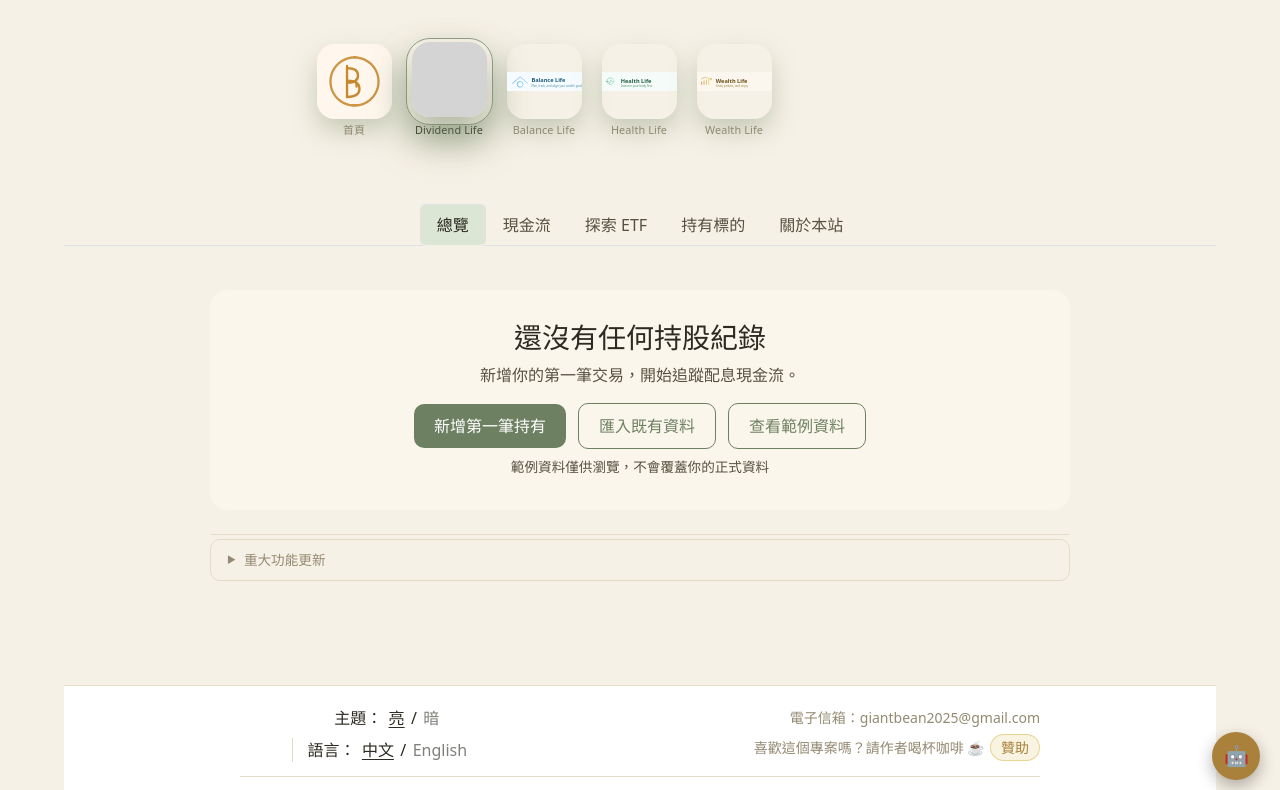
checking one stock in the search dropdown filters out the other
Click the tab "探索 ETF": click(616, 225) [568, 204, 664, 246]
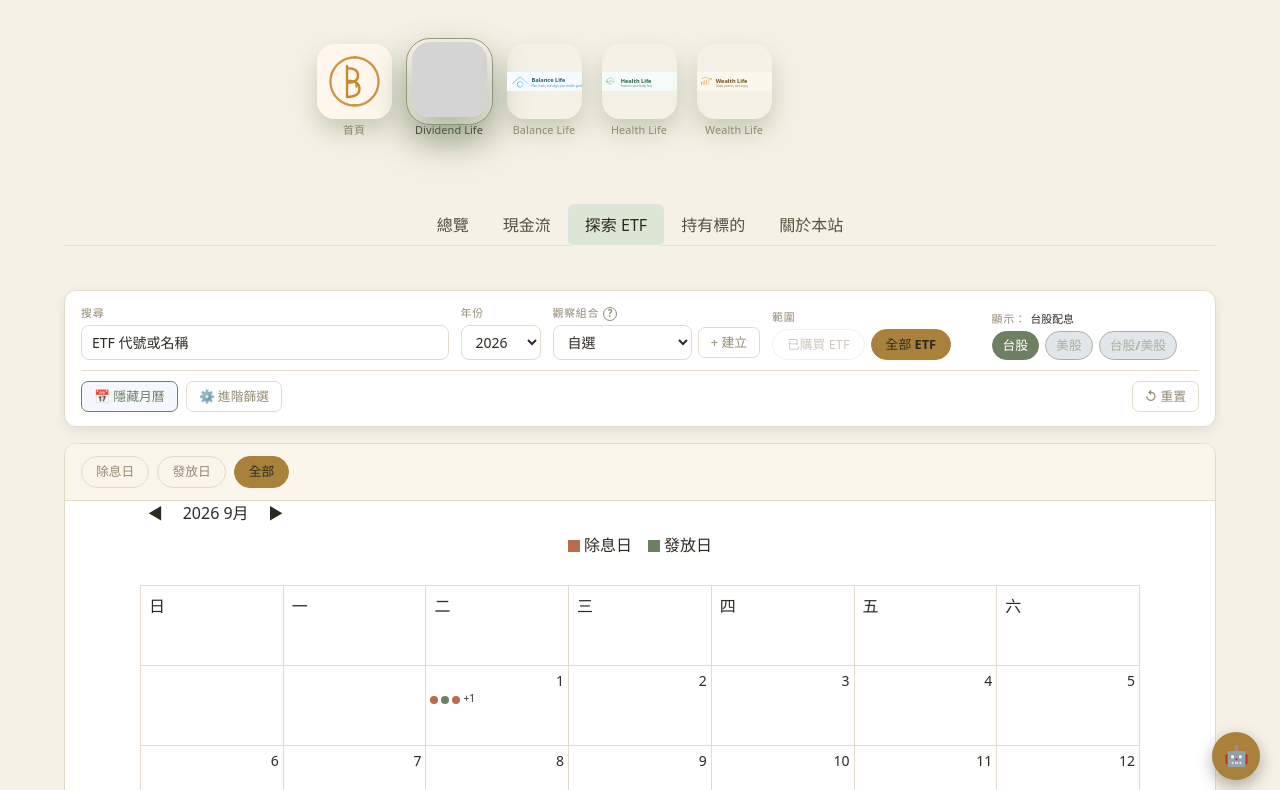
Check: the button with id "filter-search" is shown
Click the button with id "filter-search": click(140, 343) [81, 325, 448, 360]
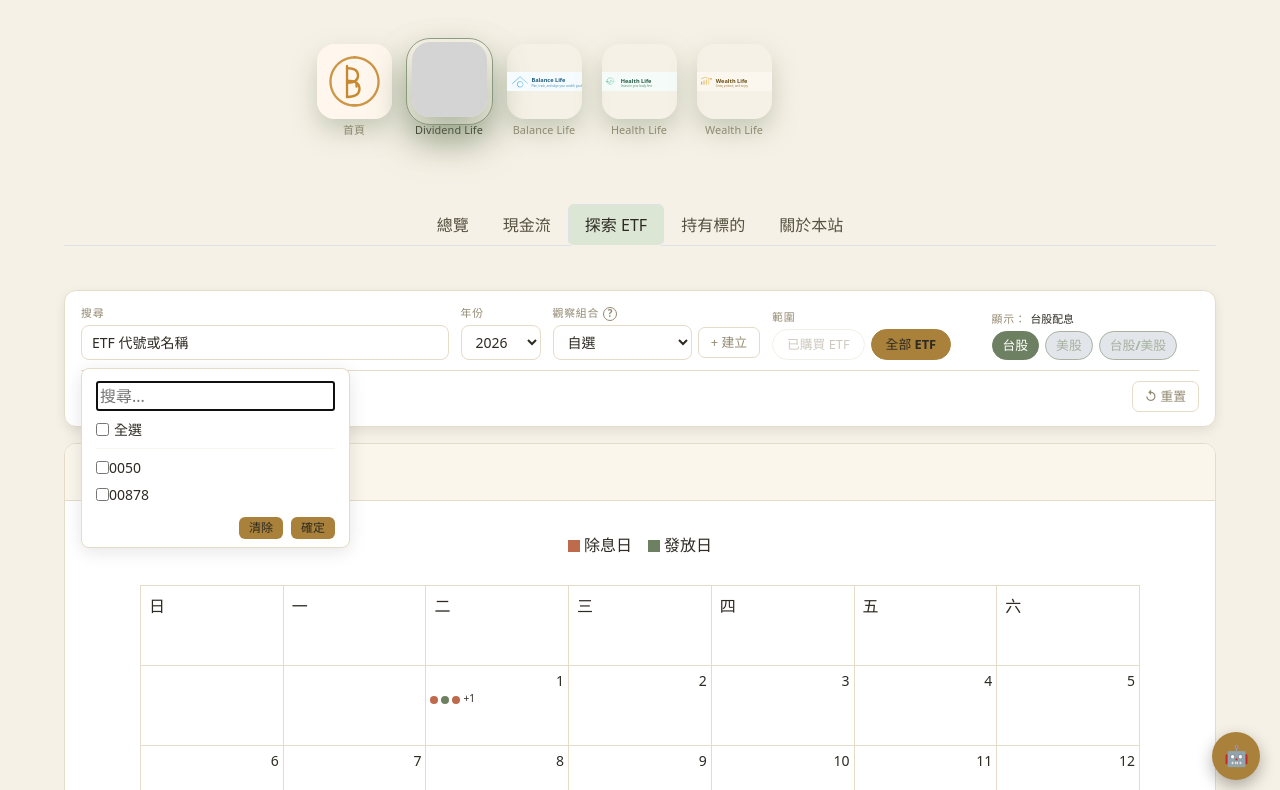
Click the checkbox labelled "0050": click(102, 468) [96, 461, 109, 474]
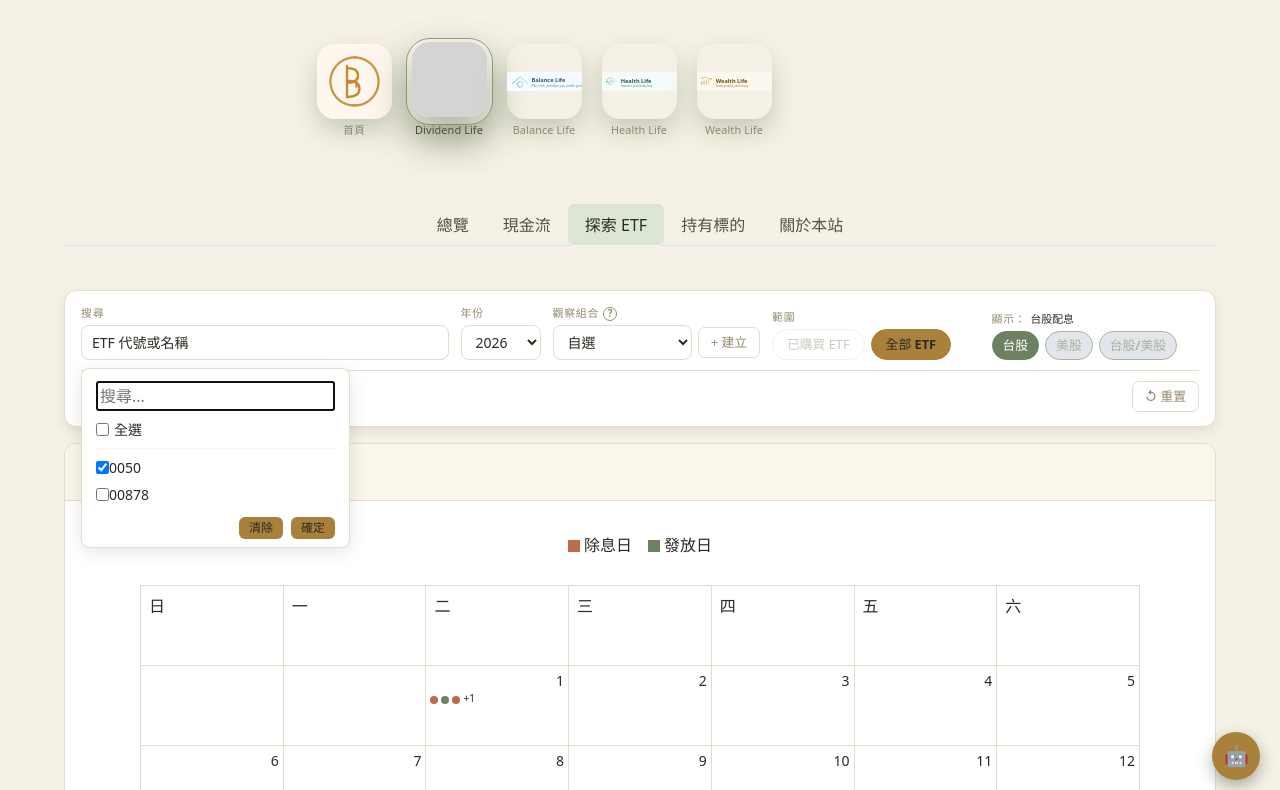
Click the button "確定": click(313, 528) [291, 517, 335, 539]
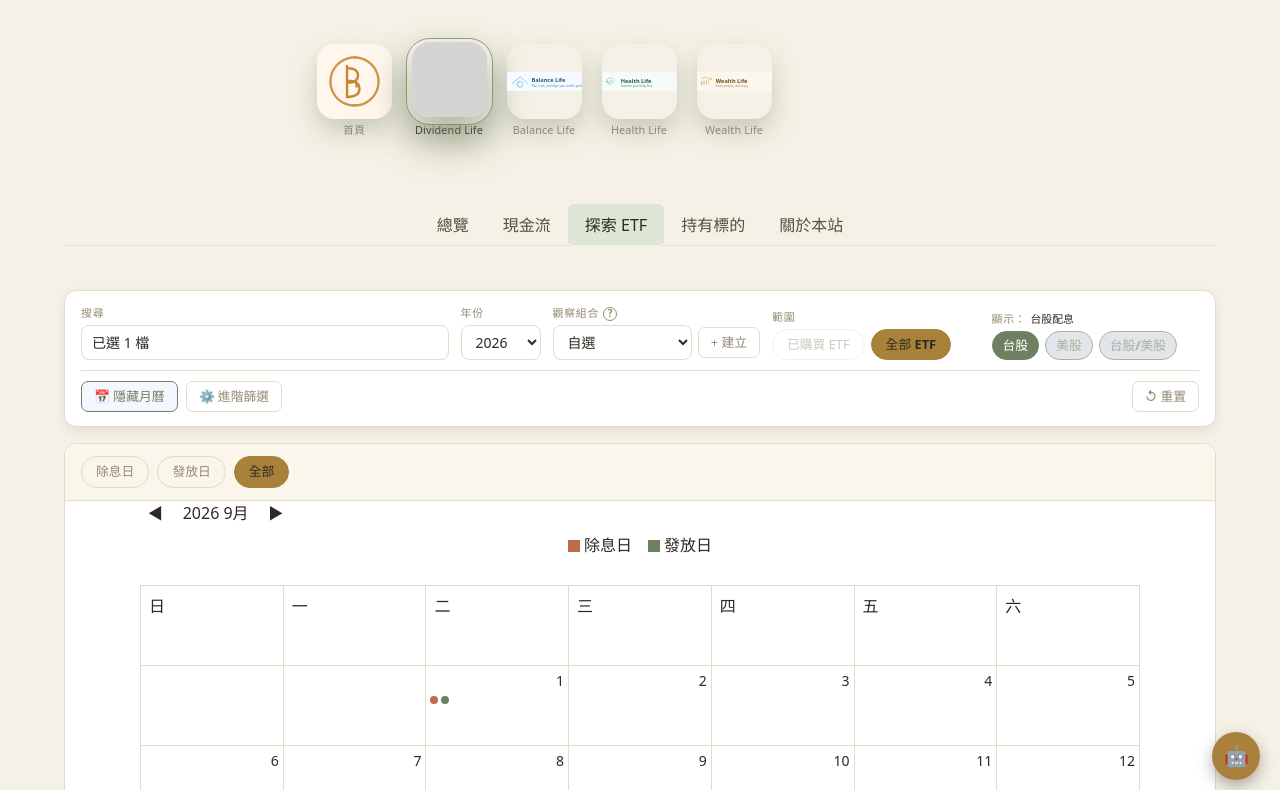
Check: the text "00878" is not shown
Check: the button with id "filter-search" reads "已選 1 檔", box [81, 325, 448, 360]
